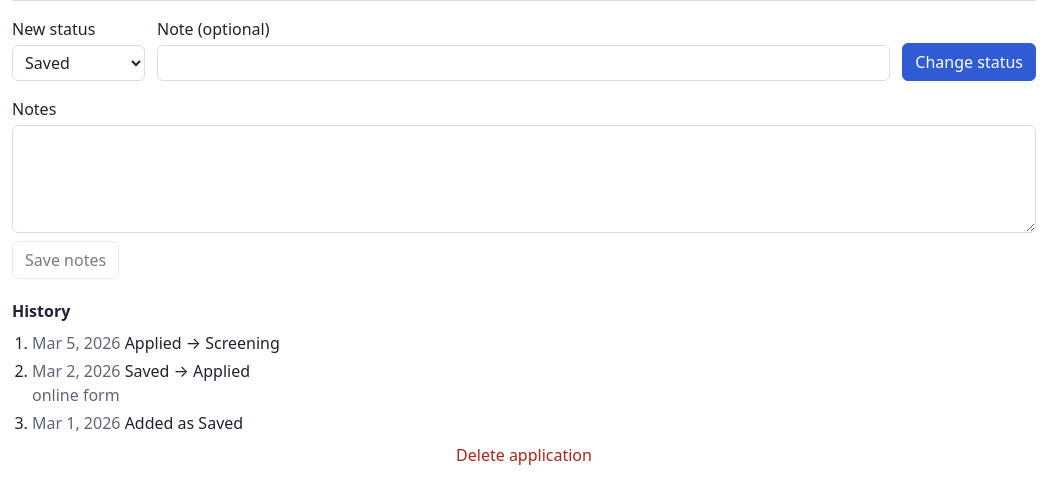
Scenario: ApplicationDetail › changes the status with a note, offering only other statuses
Expected: the option does not show "Screening"
Select "Interviewing" in the dropdown labelled "New status": (78, 63) 12,45 -> 145,81
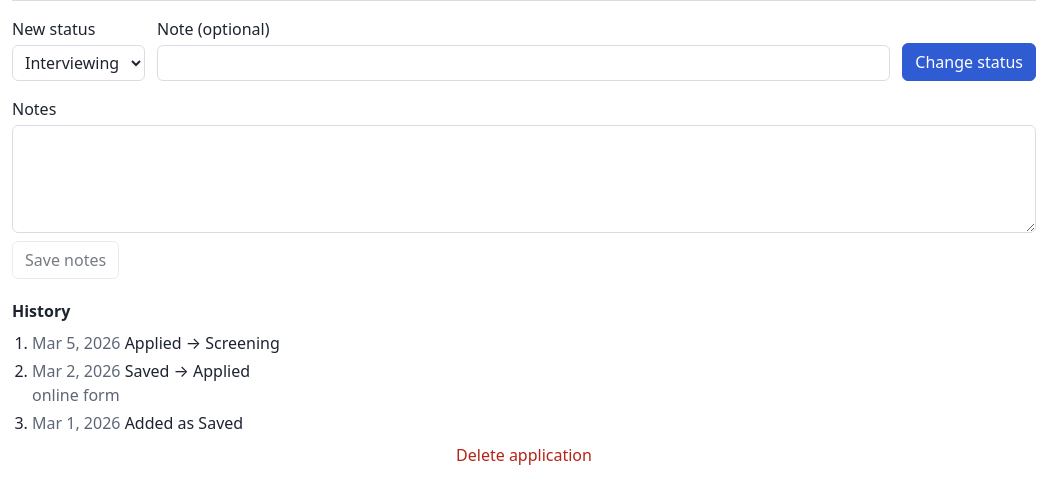
In the field labelled "Note (optional)": (524, 63) 157,45 -> 890,81, type " phone call "
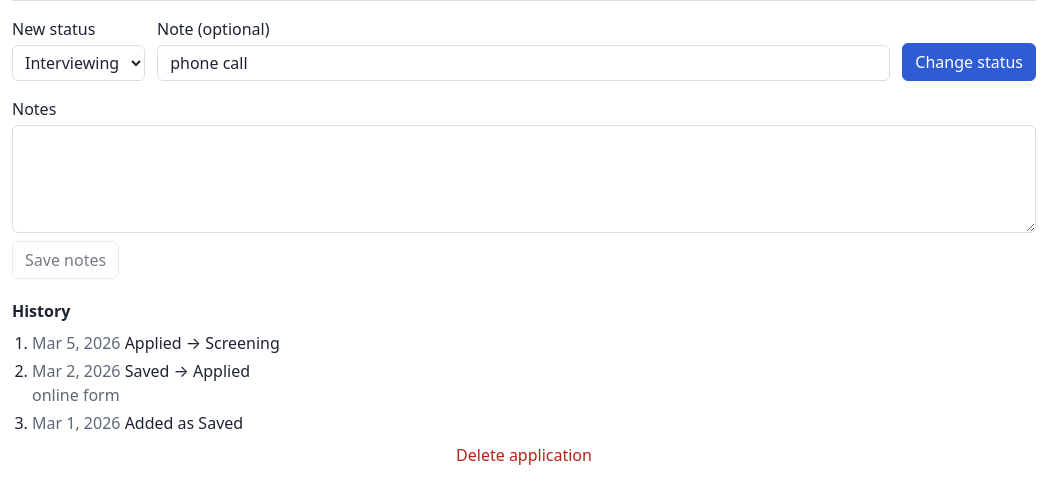
Click the button "Change status": (969, 62) 902,43 -> 1036,81
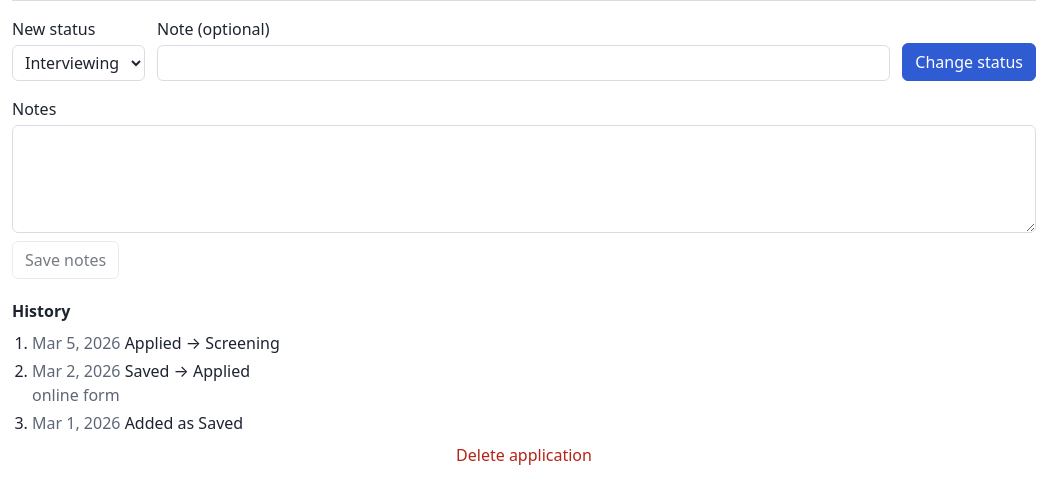
Expected: the field labelled "Note (optional)" is empty, 157,45 -> 890,81
